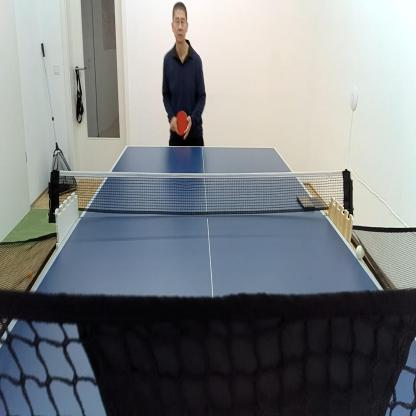Ball: (356, 244, 365, 259)
